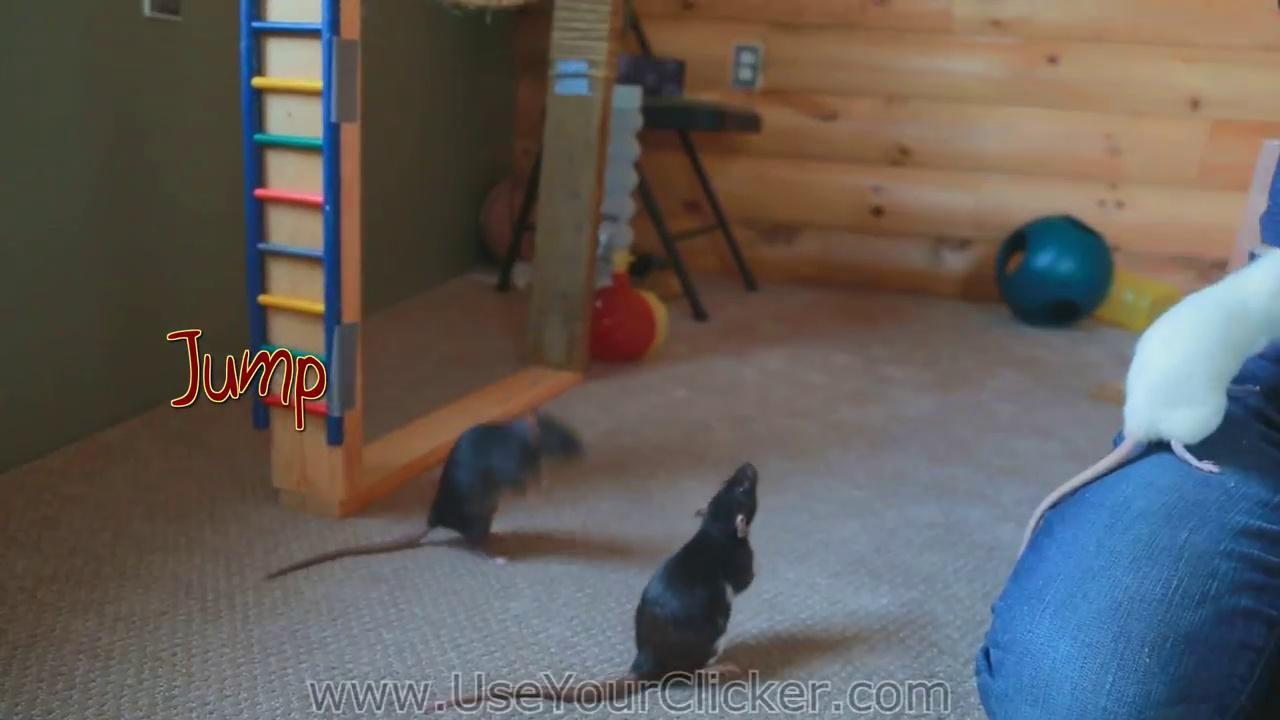rat: (424, 462, 758, 713), (264, 410, 586, 580)
